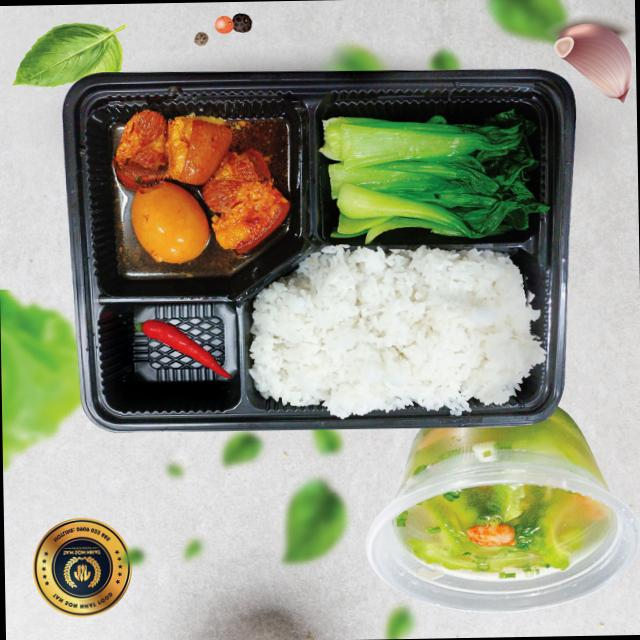canh cai: (392, 483, 610, 579)
com: (249, 245, 545, 418)
kho trung: (113, 110, 289, 263)
